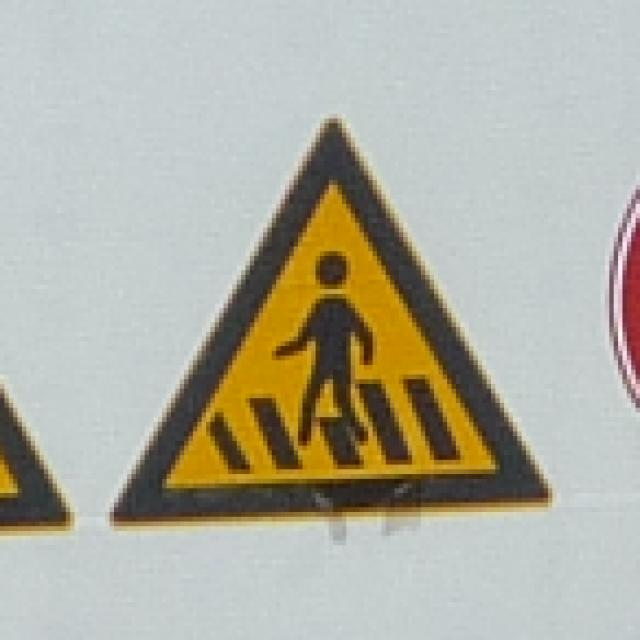Crossing: (93, 102, 592, 564)
